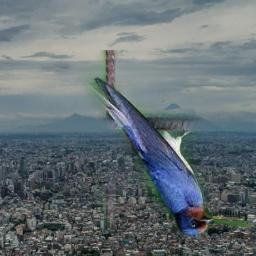Swallow: (45, 50, 213, 235)
